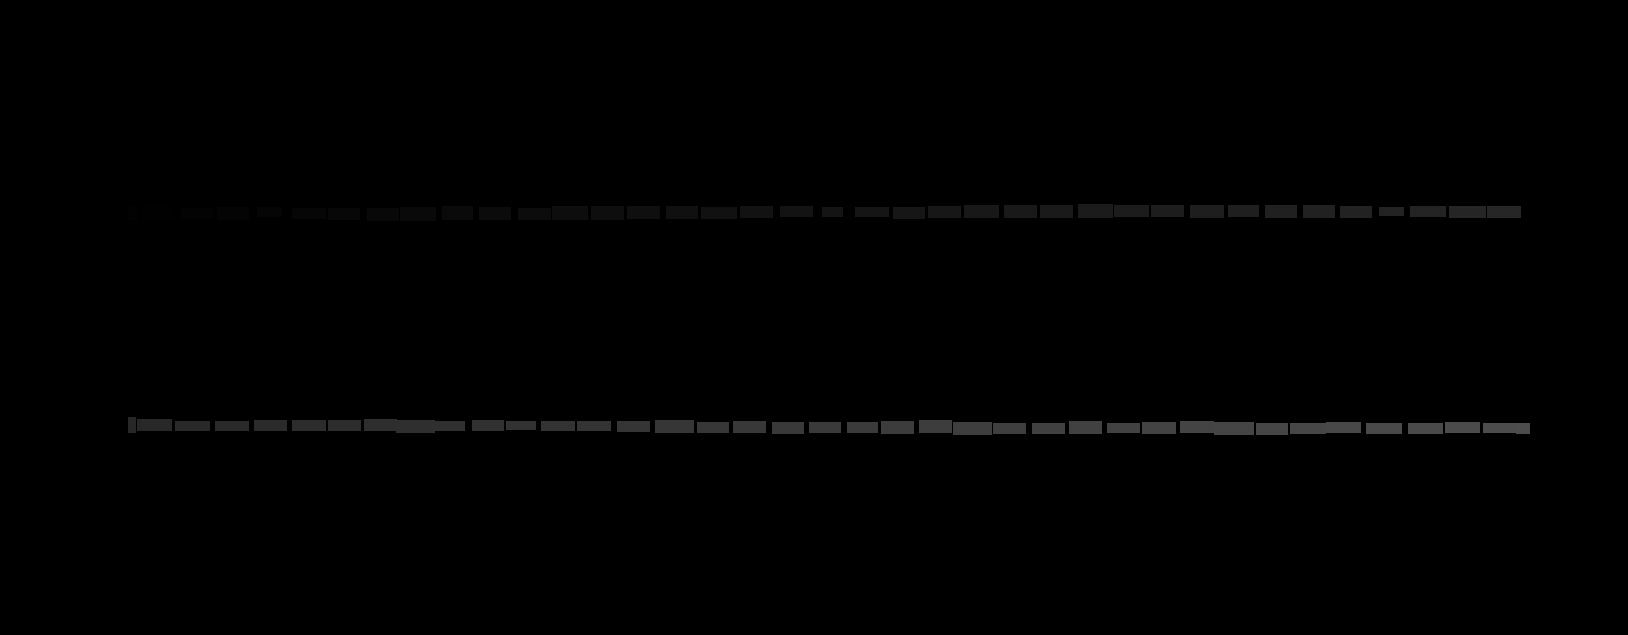light: (1214, 422, 1254, 435), (396, 420, 435, 433), (400, 208, 436, 221), (655, 420, 694, 433), (953, 422, 992, 435), (552, 206, 588, 220), (1078, 204, 1113, 218), (591, 206, 624, 220), (964, 205, 999, 218), (367, 208, 399, 221), (1190, 205, 1224, 218), (442, 206, 473, 220), (701, 208, 737, 219), (1449, 206, 1486, 218), (518, 208, 551, 220), (627, 206, 660, 219), (1004, 205, 1037, 218), (919, 420, 952, 433), (1114, 205, 1149, 217), (137, 419, 172, 431), (142, 206, 174, 219), (217, 208, 249, 220), (328, 208, 360, 220), (479, 208, 511, 220), (666, 206, 698, 219), (1040, 205, 1073, 218), (1265, 205, 1297, 218), (1303, 205, 1335, 218), (881, 421, 914, 434), (1069, 421, 1102, 434), (292, 208, 326, 219), (1487, 206, 1521, 218), (1142, 422, 1176, 434), (181, 208, 214, 219), (740, 206, 774, 218), (928, 206, 961, 218), (733, 421, 766, 433), (1181, 421, 1214, 433), (1410, 206, 1446, 217), (1290, 423, 1326, 434), (893, 208, 925, 219), (1151, 205, 1184, 217), (364, 419, 397, 431), (1256, 423, 1288, 435), (1326, 422, 1361, 433), (1366, 423, 1402, 434), (1408, 423, 1443, 434), (1228, 205, 1259, 217), (1340, 206, 1372, 218), (292, 420, 326, 431), (772, 422, 804, 434), (1445, 422, 1480, 433), (780, 206, 813, 217), (328, 420, 361, 431), (617, 421, 650, 432), (993, 423, 1026, 434), (1032, 423, 1065, 434), (254, 420, 287, 431), (697, 422, 729, 433), (809, 422, 841, 433), (472, 420, 504, 431), (847, 422, 878, 433), (854, 208, 889, 217), (175, 421, 210, 431), (215, 421, 249, 431), (541, 421, 575, 431), (432, 421, 465, 431), (577, 421, 610, 431), (1107, 423, 1140, 433), (1483, 423, 1516, 433), (506, 421, 536, 430), (257, 208, 282, 217), (1379, 208, 1404, 216), (822, 208, 843, 217), (1516, 423, 1530, 434), (128, 417, 136, 433), (128, 206, 137, 220)
